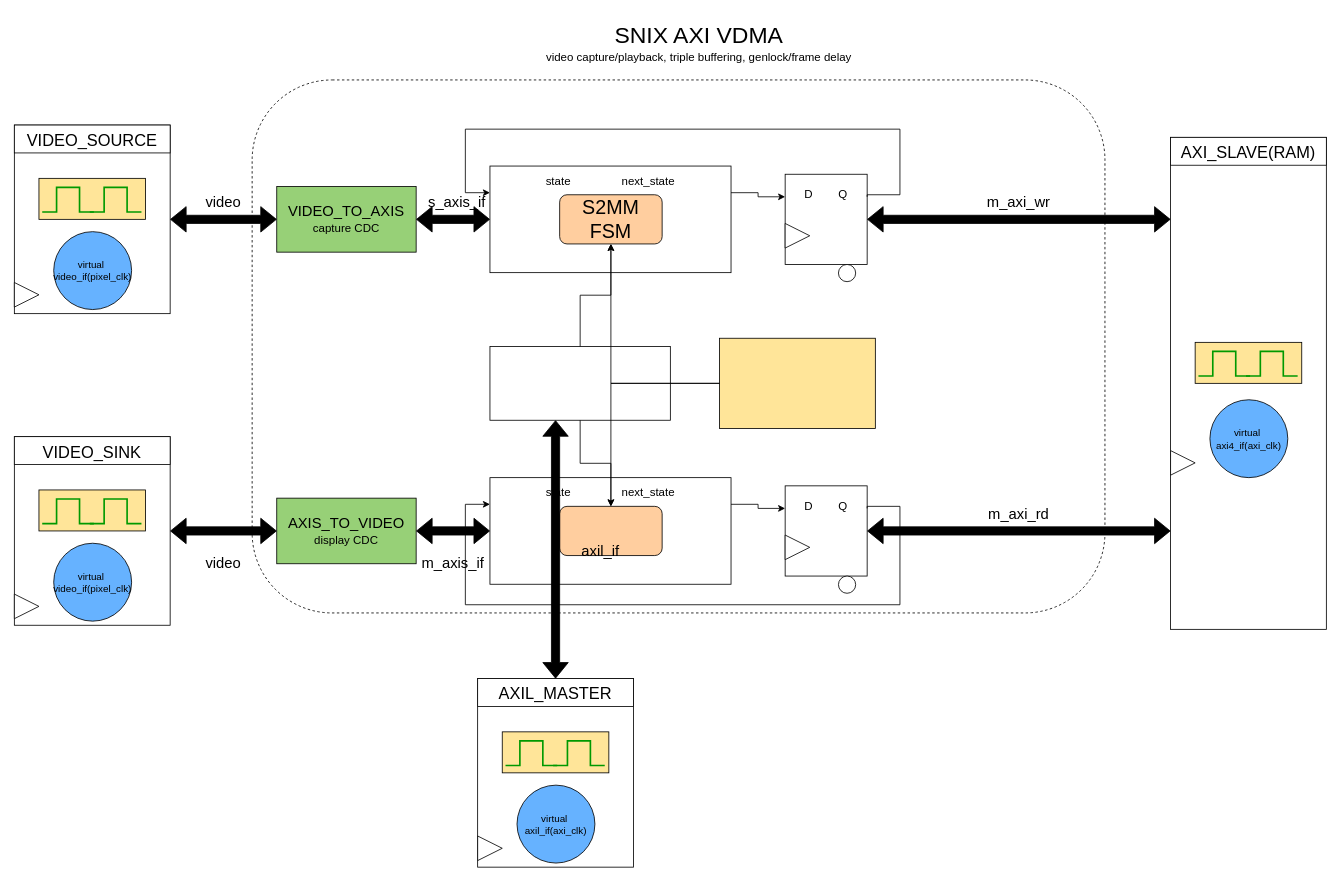
This 1341x882 diagram has some shape labels left out. Here are the shapes that lost their labels. From the top down, the box of each, then its label:
(489, 346, 670, 420): SNIX_AXI_VDMA_CSR AXI-Lite control/status
(719, 337, 875, 428): FRAME_STORE triple buffer park / genlock / delay
(559, 506, 662, 556): MM2S FSM
